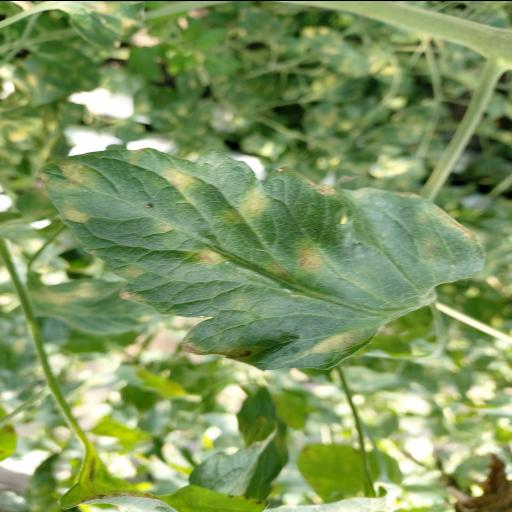disease_tomato: (37, 146, 485, 370)
